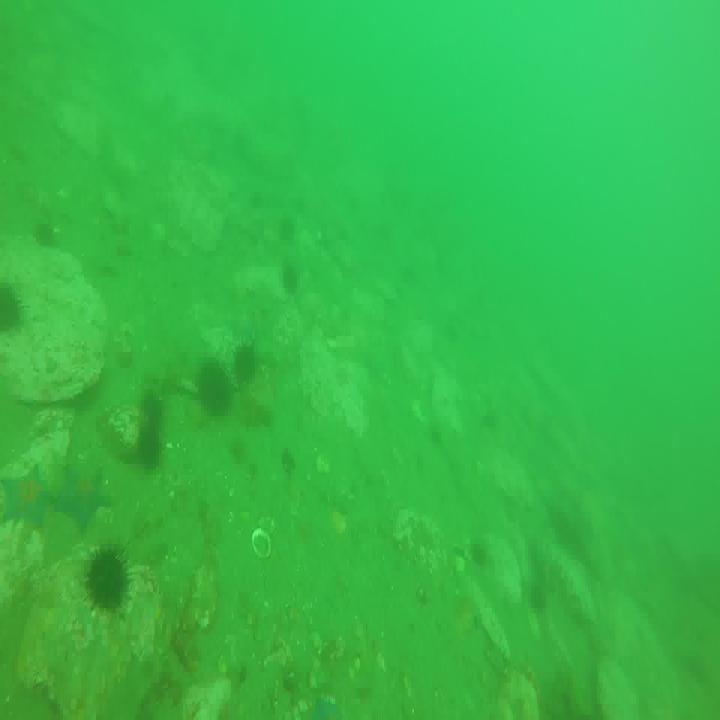echinus: (85, 546, 129, 612), (200, 359, 232, 418), (135, 424, 164, 473), (228, 344, 262, 380), (0, 283, 21, 338), (278, 262, 302, 300), (142, 389, 165, 423), (529, 578, 550, 612)
starfish: (60, 461, 115, 526), (3, 467, 56, 534)
